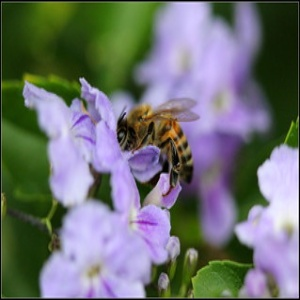bee: (117, 94, 201, 205)
